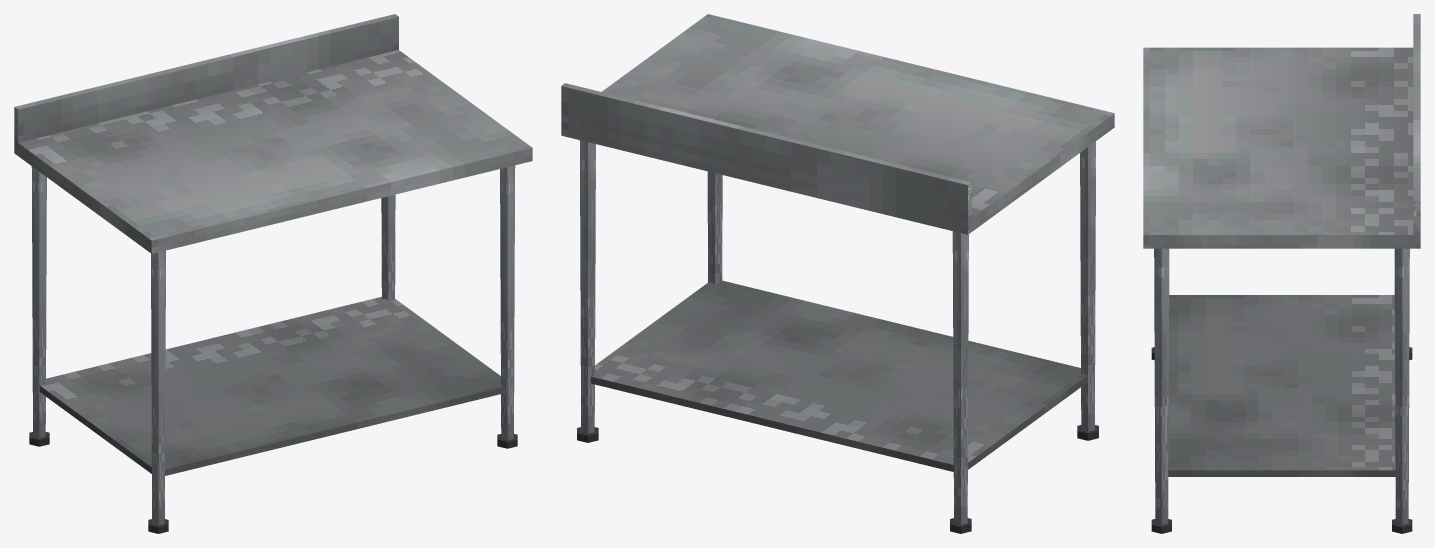
File: prep_table.glb
3 views of the same model, side by side, from view 1: azimuth 30°, elevation 25°; view 2: azimuth 150°, elevation 25°; view 3: azimuth 270°, elevation 25° (orthographic). The views are drawn at different scales.
Parts seen in each view (by area): view 1: prep_table; view 2: prep_table; view 3: prep_table.
Part boxes in pixels (bbox=[...]): prep_table: bbox=[14, 14, 532, 533]; prep_table: bbox=[561, 14, 1114, 533]; prep_table: bbox=[1143, 14, 1420, 533].
Bounding box in the file's own units: 1.2 × 1 × 0.75.
1 material, 1 textured.
